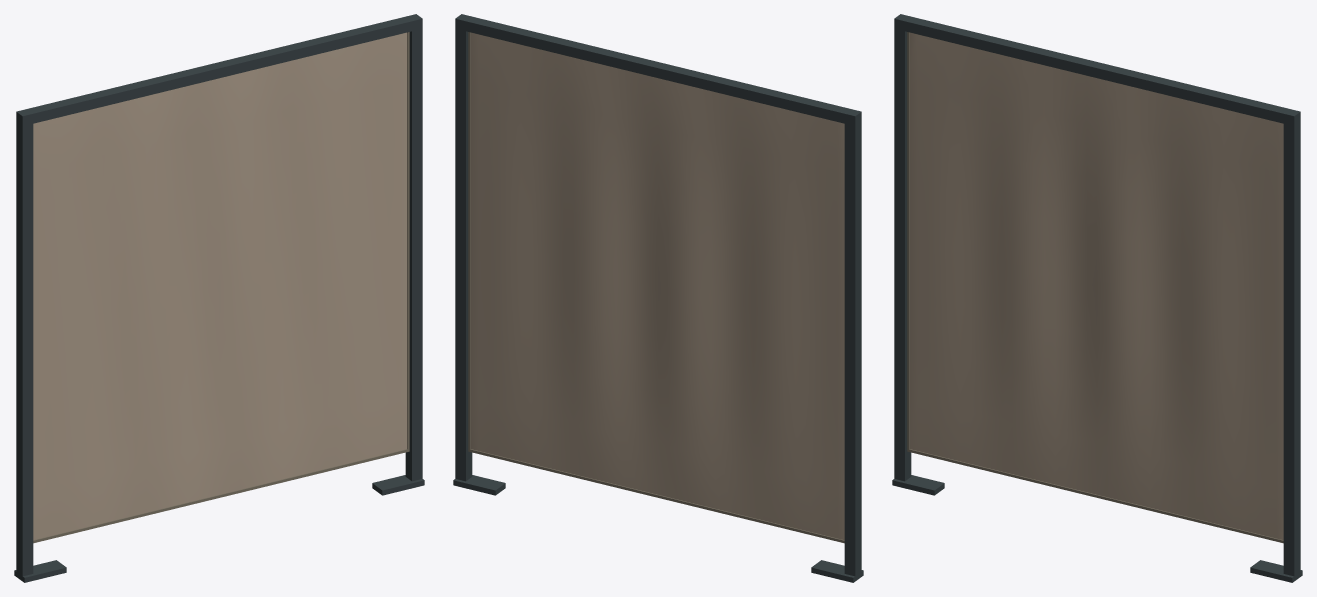
3 views of the same model, side by side, from view 1: azimuth 30°, elevation 25°; view 2: azimuth 150°, elevation 25°; view 3: azimuth 330°, elevation 25° (orthographic).
Parts seen in each view (by area): view 1: fabric-body, fabric-frame, fabric-seams, fabric-feet; view 2: fabric-body, fabric-frame, fabric-seams, fabric-feet; view 3: fabric-body, fabric-frame, fabric-seams, fabric-feet.
Boxes of the visible parts, left/top/right/bottom form: fabric-body: left=33, top=32, right=407, bottom=539; fabric-frame: left=16, top=14, right=422, bottom=576; fabric-seams: left=33, top=32, right=409, bottom=543; fabric-feet: left=14, top=475, right=424, bottom=582; fabric-body: left=470, top=32, right=844, bottom=539; fabric-frame: left=455, top=14, right=861, bottom=576; fabric-seams: left=468, top=32, right=844, bottom=543; fabric-feet: left=453, top=475, right=863, bottom=582; fabric-body: left=909, top=32, right=1283, bottom=539; fabric-frame: left=894, top=14, right=1300, bottom=576; fabric-seams: left=907, top=32, right=1283, bottom=543; fabric-feet: left=892, top=475, right=1302, bottom=582.
Bounding box in the file's own units: 1.8 × 2 × 0.08.
